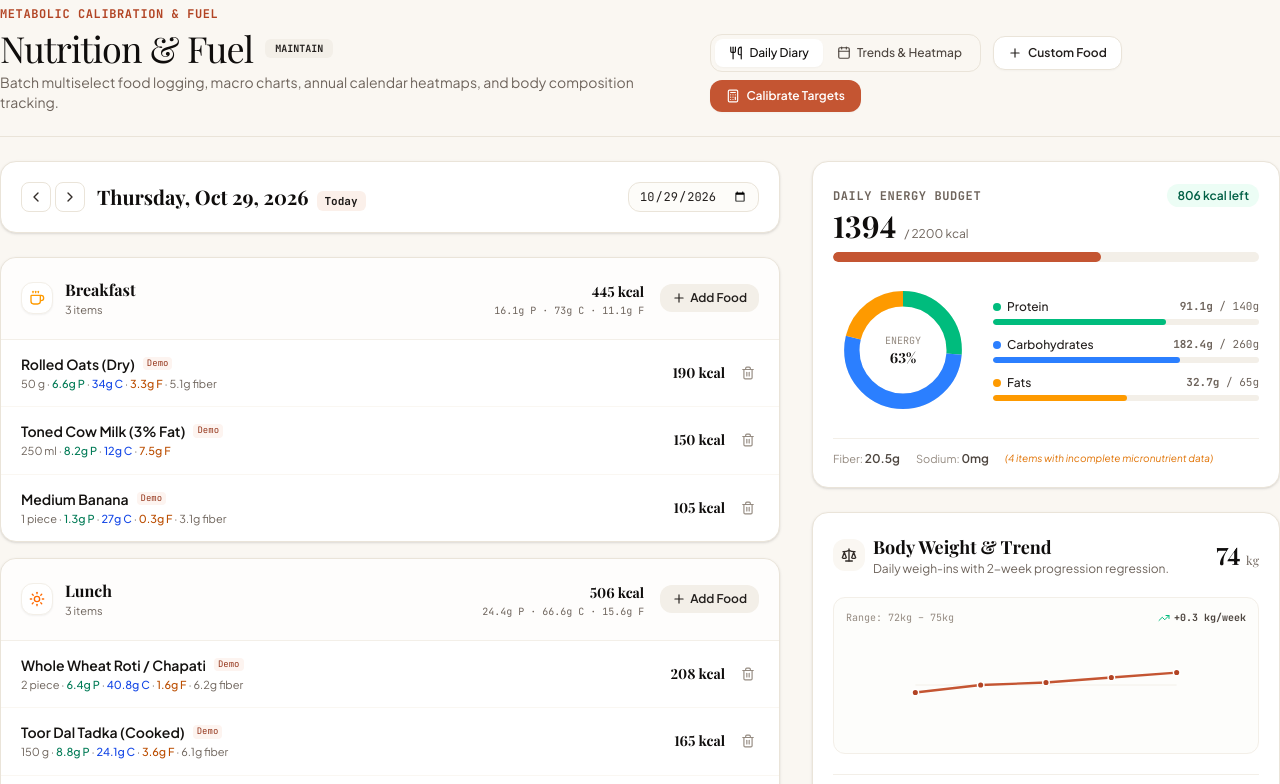
Milestone 7: Gym & Nutrition (Full) › Custom Food & Fitness Onboarding › calibrates nutritional targets using BMR/TDEE in Onboarding modal
Note: Click "Calibrate Targets"
Click the button "Calibrate Targets" at x=786, y=96, box 710,80 -> 861,112
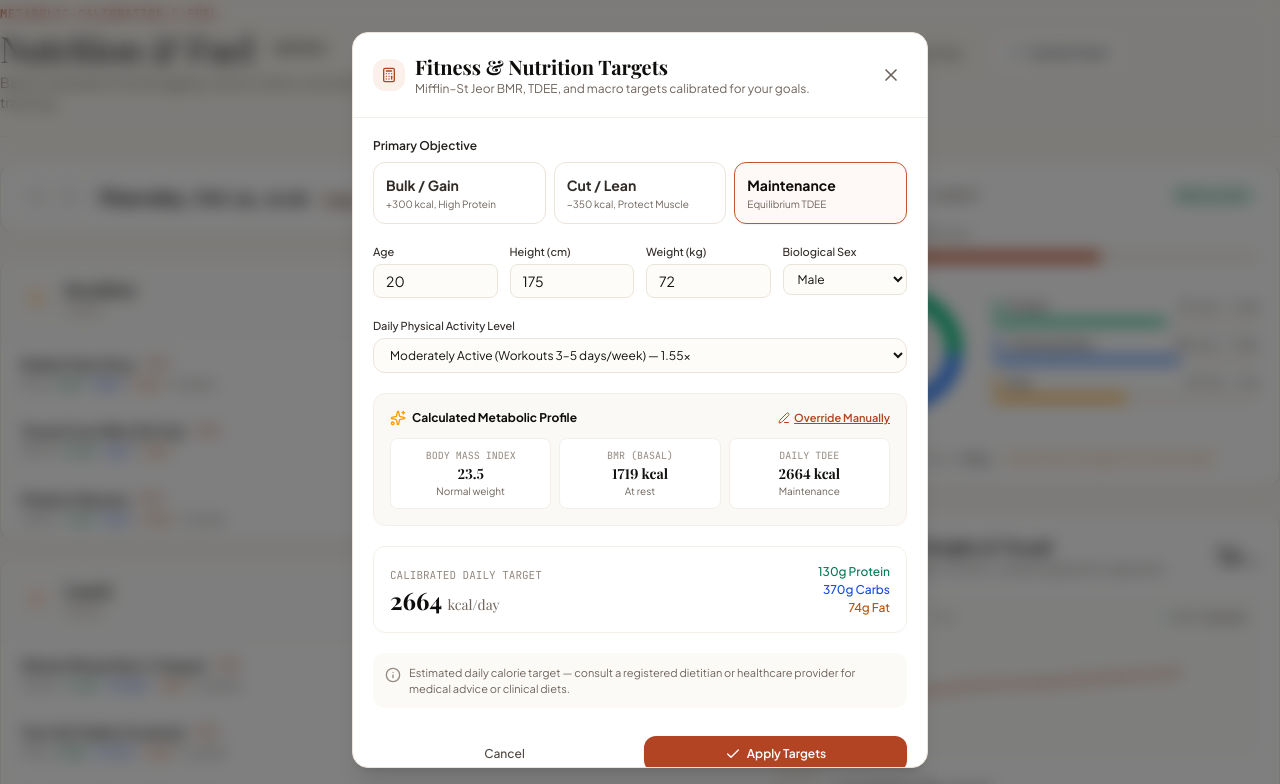
expect the heading "Fitness & Nutrition Targets" is shown: met, box 415,53 -> 668,80
Note: Select "Bulk / Gain"
Click the text "Bulk / Gain" at x=422, y=185, box 386,176 -> 459,194
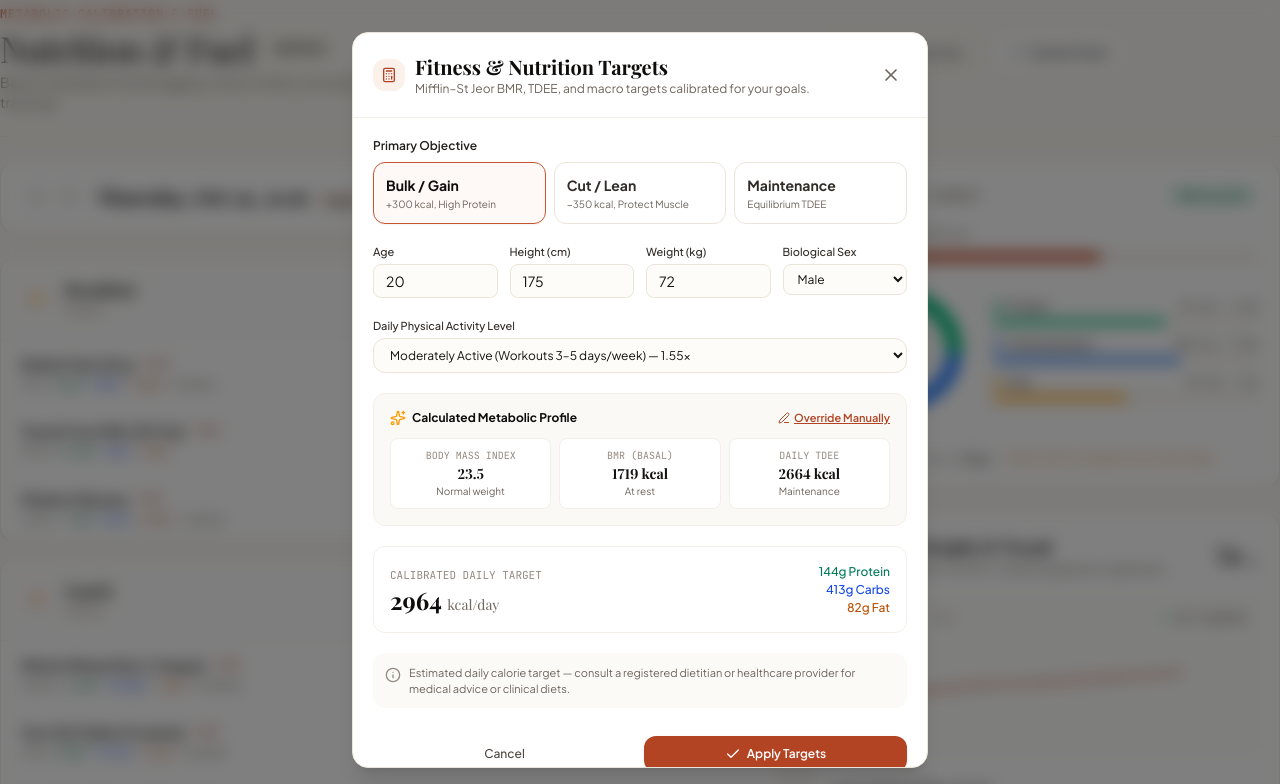
Note: Click "Apply Targets"
Click the button "Apply Targets" at x=776, y=754, box 644,736 -> 907,772
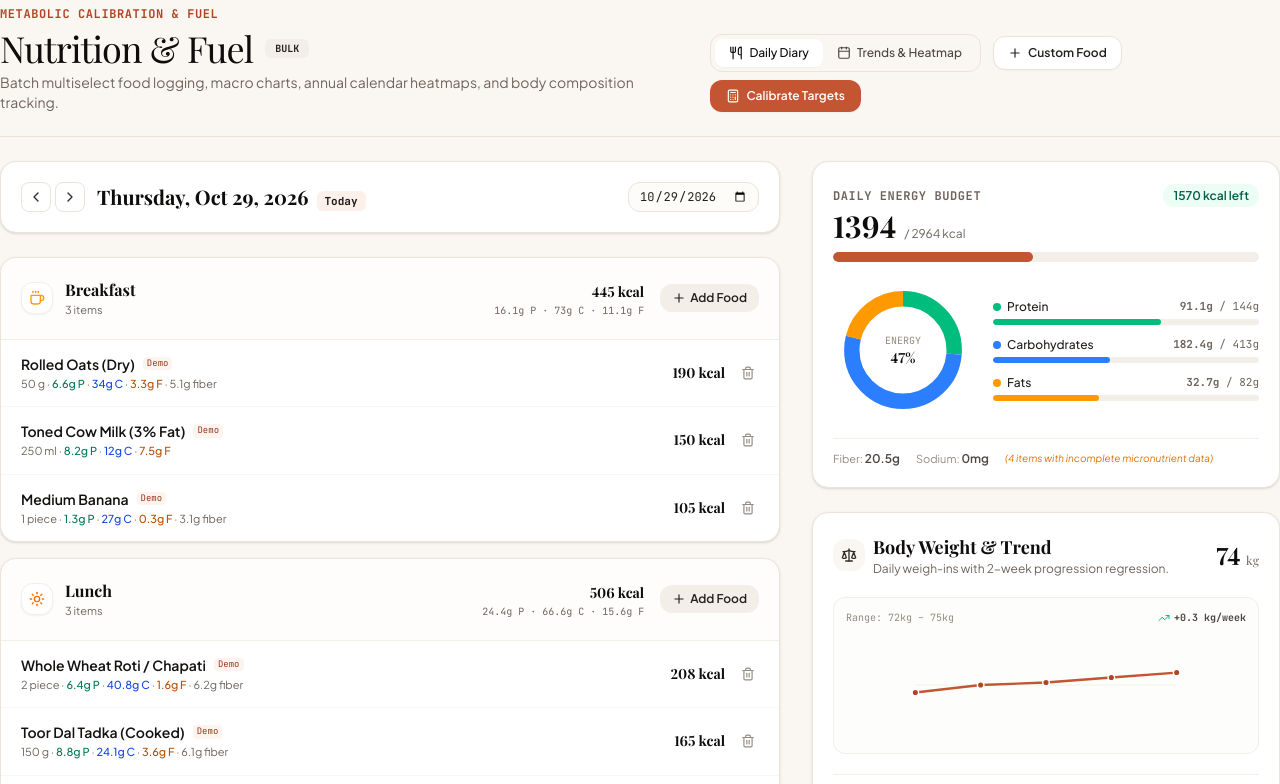
expect the text "BULK" is shown: met, box 265,38 -> 309,58
